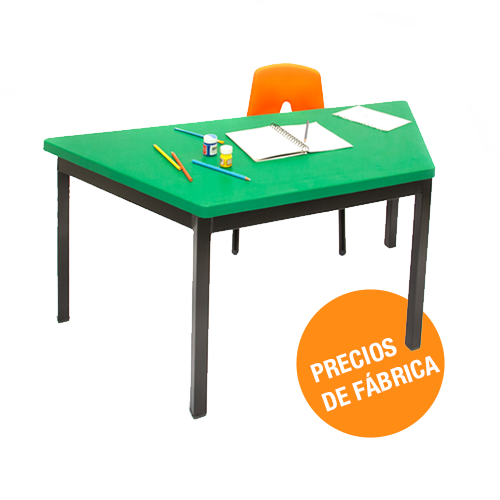m01: (43, 100, 434, 418)
